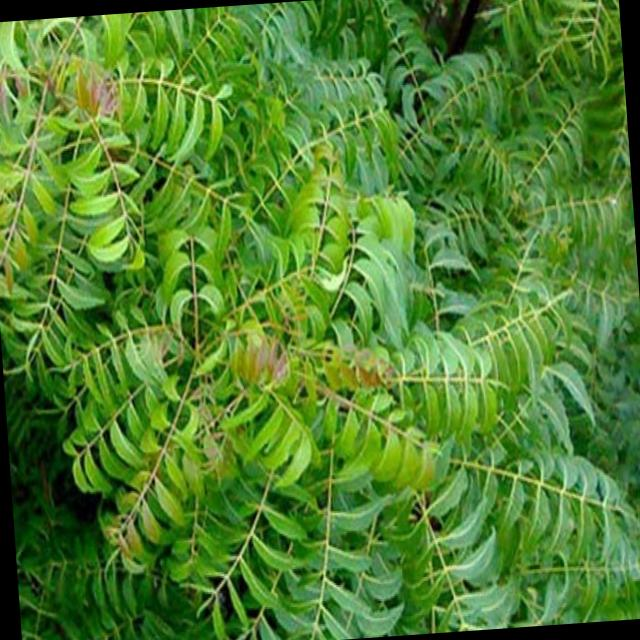Medicinal-Neem: (0, 31, 386, 544), (191, 251, 606, 640)
